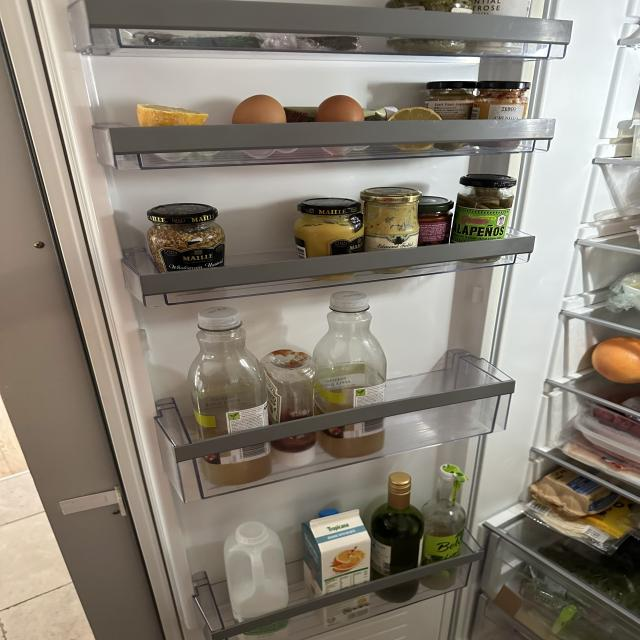Huevos: (530, 468, 611, 516), (596, 392, 637, 438)
Leche: (229, 521, 286, 635)
Limón: (382, 108, 440, 152), (138, 105, 210, 129)
